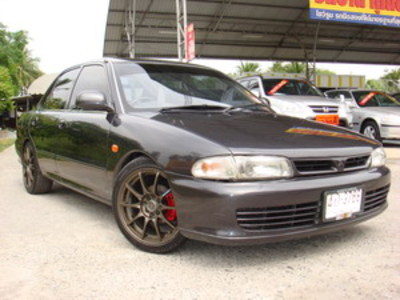sedan: (14, 55, 392, 254)
